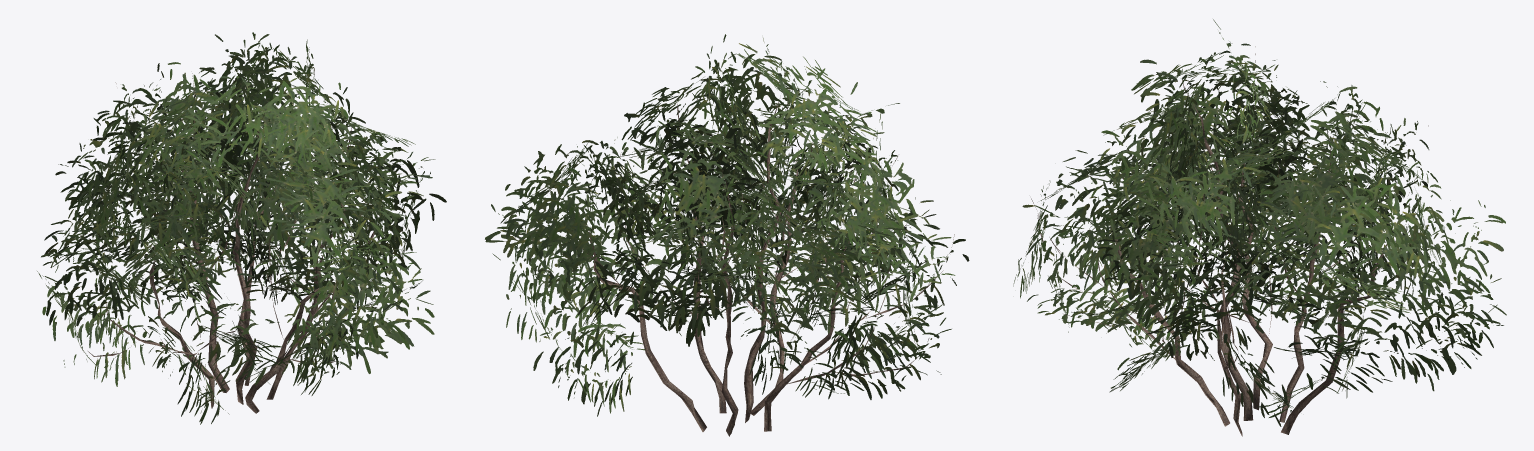
File: oleander-b.glb
3 views of the same model, side by side, from view 1: azimuth 30°, elevation 25°; view 2: azimuth 150°, elevation 25°; view 3: azimuth 270°, elevation 25° (orthographic). The views are drawn at different scales.
Visible parts, largest first — view 1: oleander-b; view 2: oleander-b; view 3: oleander-b.
Part boxes in pixels (x1=…): oleander-b: x1=37, y1=32, x2=446, y2=424; oleander-b: x1=485, y1=34, x2=969, y2=436; oleander-b: x1=1013, y1=19, x2=1506, y2=436.
Bounding box in the file's own units: 2.97 × 2.62 × 3.18.
2 materials, 2 textured.
